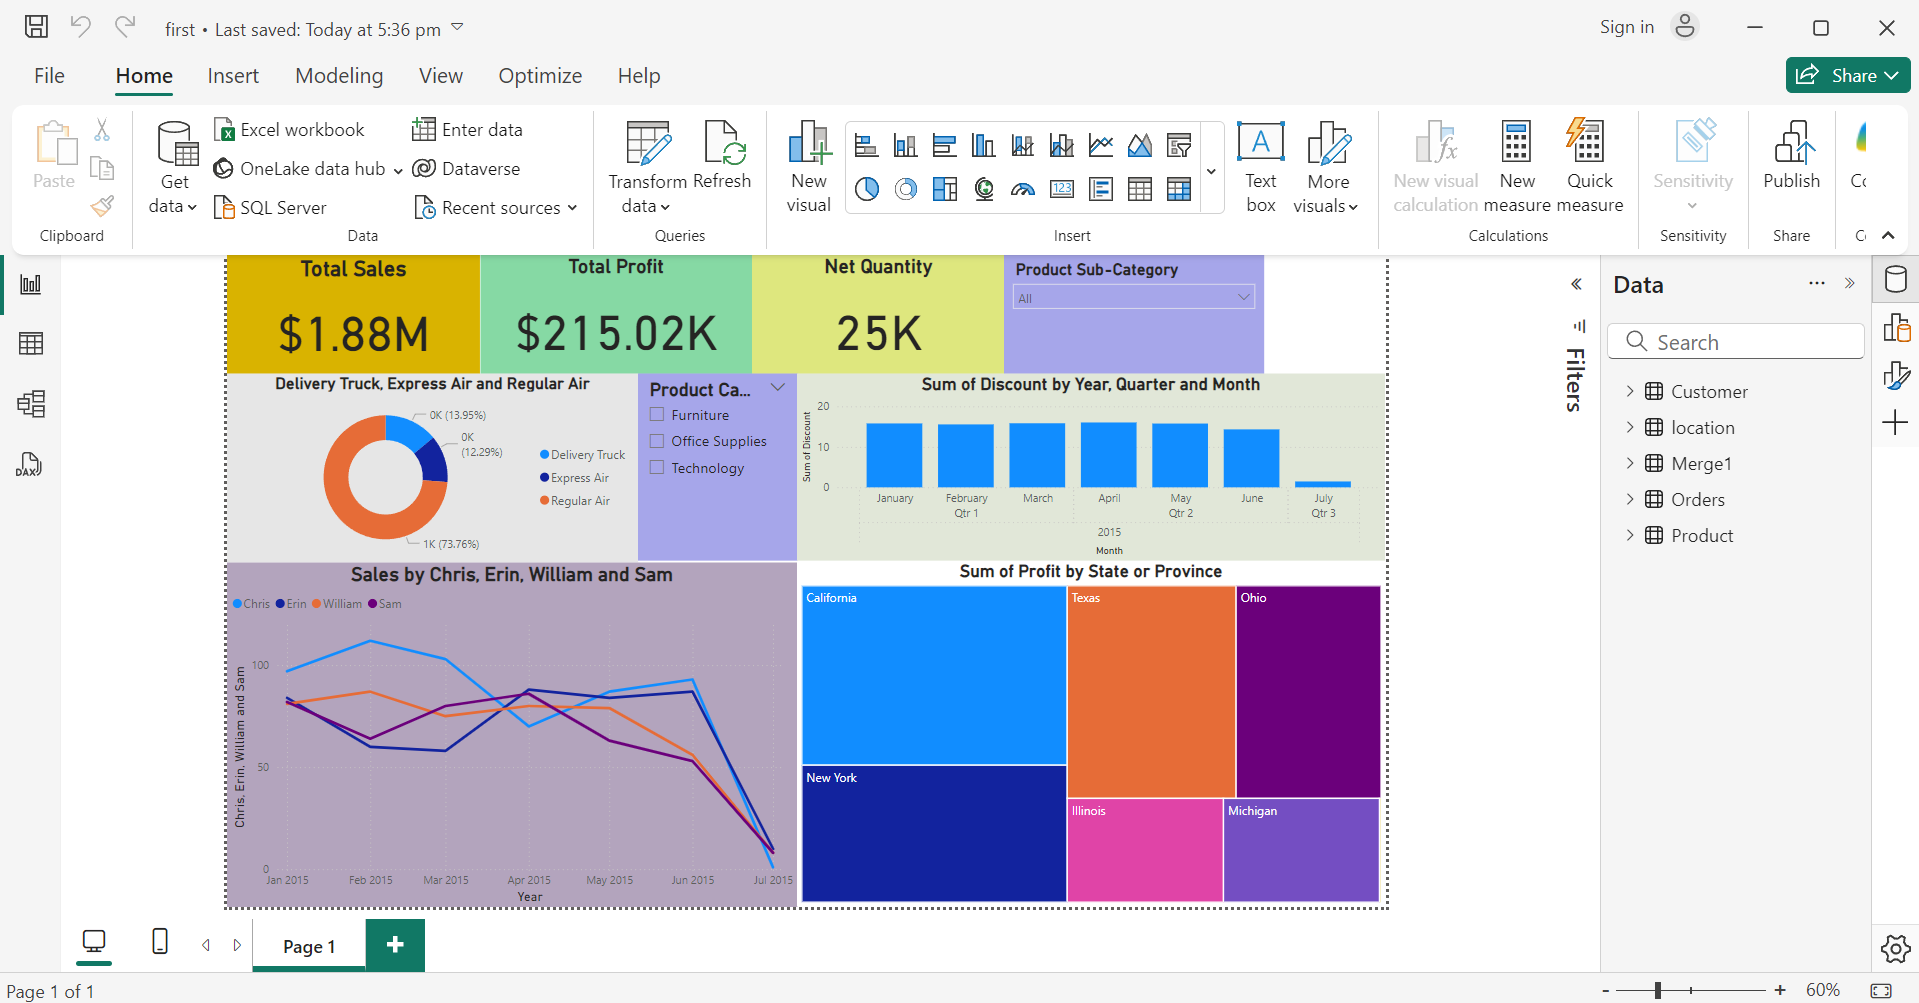

The dashboard page shown, as its layout file describes it:
{"tool":"powerbi","page":{"name":"Page 1","canvas":[1280,720],"ordinal":0},"visuals":[{"type":"card","title":"Total Sales","fields":{"Values":["Orders.Sales"]},"box":[0,0,279.5,131.6],"z":0},{"type":"card","title":"Total Profit","fields":{"Values":["Orders.Profit"]},"box":[279.5,0,299.7,131.6],"z":1},{"type":"card","title":"Net Quantity ","fields":{"Values":["Orders.Quantity ordered new"]},"box":[579.2,0,279.5,131.6],"z":2},{"type":"donutChart","fields":{"Y":["location.Delivery Truck","location.Express Air","location.Regular Air"]},"box":[0,131.6,453.7,208.6],"z":3},{"type":"lineChart","title":"Sales by Chris, Erin, William and Sam","fields":{"Y":["location.Chris","location.Erin","location.William","location.Sam"],"Category":["location.Ship Date.Variation.Date Hierarchy.Year","location.Ship Date.Variation.Date Hierarchy.Month"]},"box":[0,339.7,629.7,381.4],"z":4},{"type":"slicer","fields":{"Values":["Product.Product Category"]},"box":[453.2,131.5,176,206.4],"z":5},{"type":"slicer","fields":{"Values":["Product.Product Sub-Category"]},"box":[857.8,0,287.3,131.5],"z":6},{"type":"treemap","fields":{"Values":["Orders.Profit"],"Group":["location.State or Province"]},"box":[629.7,337.7,649.6,381.4],"z":7},{"type":"columnChart","fields":{"Y":["Orders.Discount"],"Category":["location.Ship Date.Variation.Date Hierarchy.Year","location.Ship Date.Variation.Date Hierarchy.Quarter","location.Ship Date.Variation.Date Hierarchy.Month"]},"box":[629.2,131.5,649.5,206.4],"z":8}]}

Visuals, with their boxes on the page's 1280x720 design canvas (x1, y1, x2, y2). These are canvas units, not pixel positions in the 1919x1003 screenshot, which may show the page scaled, cropped or inside an application window:
"Total Sales" card: bbox(0, 0, 280, 132)
"Total Profit" card: bbox(280, 0, 579, 132)
"Net Quantity " card: bbox(579, 0, 859, 132)
donutChart - location.Delivery Truck x location.Express Air: bbox(0, 132, 454, 340)
"Sales by Chris, Erin, William and Sam" lineChart: bbox(0, 340, 630, 721)
slicer - Product.Product Category: bbox(453, 132, 629, 338)
slicer - Product.Product Sub-Category: bbox(858, 0, 1145, 132)
treemap - Orders.Profit x location.State or Province: bbox(630, 338, 1279, 719)
columnChart - Orders.Discount x location.Ship Date.Variation.Date Hierarchy.Year: bbox(629, 132, 1279, 338)
